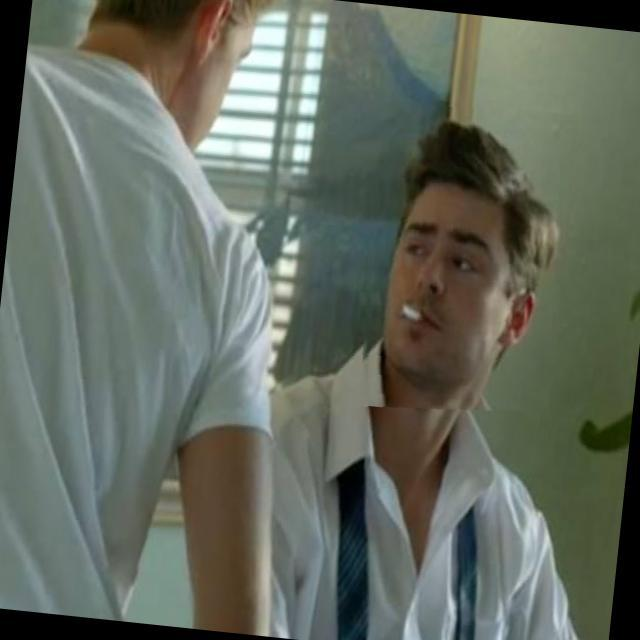cigarette: (372, 288, 424, 336)
